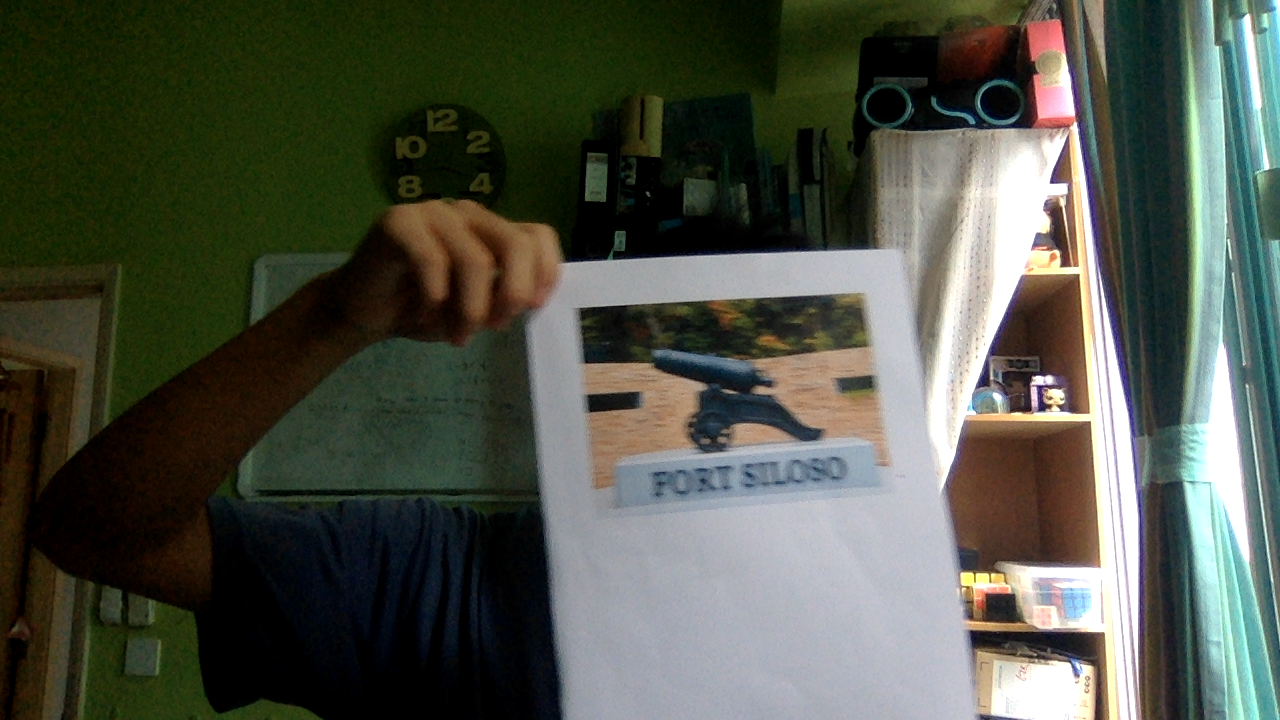siloso: (579, 278, 900, 509)
